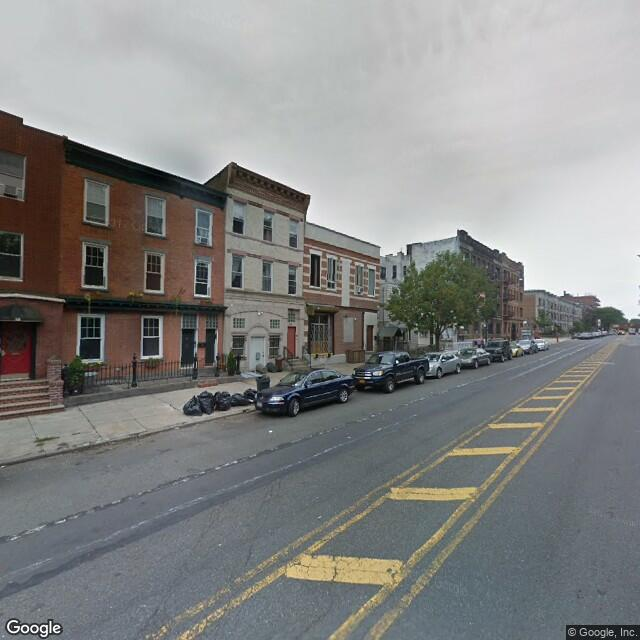litter: (268, 430, 274, 433)
